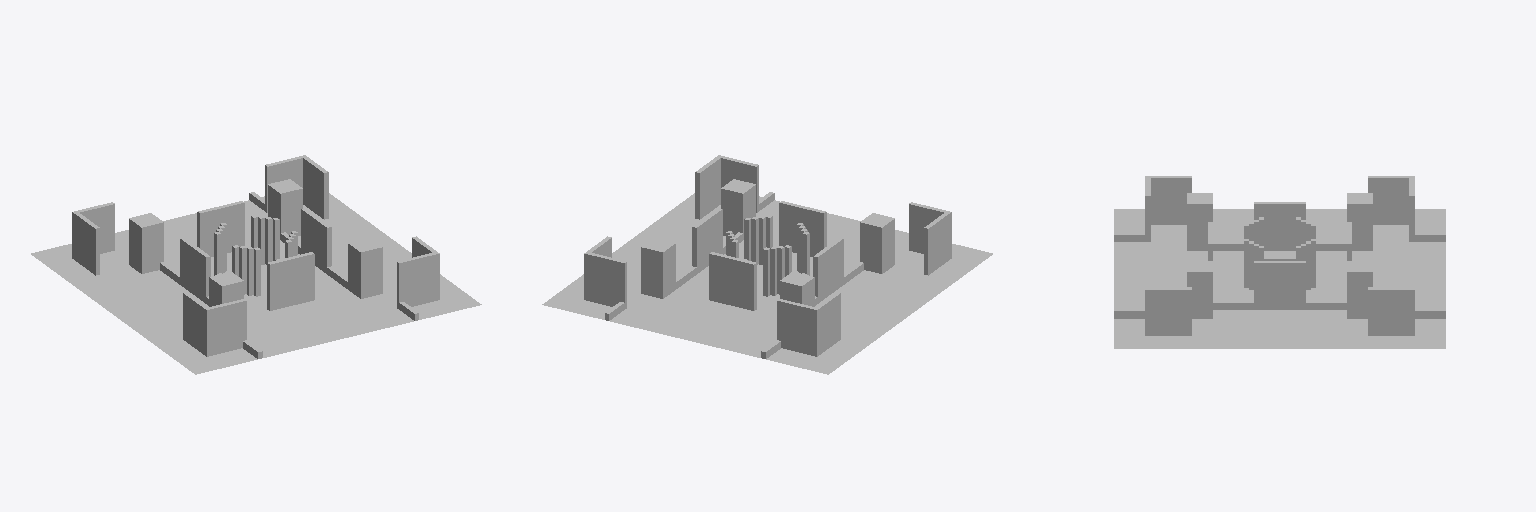
Rendered from bigArenaRedMoreDoors.obj.
3 renders of one model, left to right at view 1: azimuth 30°, elevation 25°; view 2: azimuth 150°, elevation 25°; view 3: azimuth 270°, elevation 25°, orthographic.
Visible parts, largest first — view 1: Plane.000; view 2: Plane.000; view 3: Plane.000.
Boxes of the visible parts, box(x1,y1,x2,y2) form: Plane.000: box(31, 155, 481, 374); Plane.000: box(542, 155, 992, 374); Plane.000: box(1114, 176, 1445, 348).
Bounding box in the file's own units: 2469 × 383 × 2469.